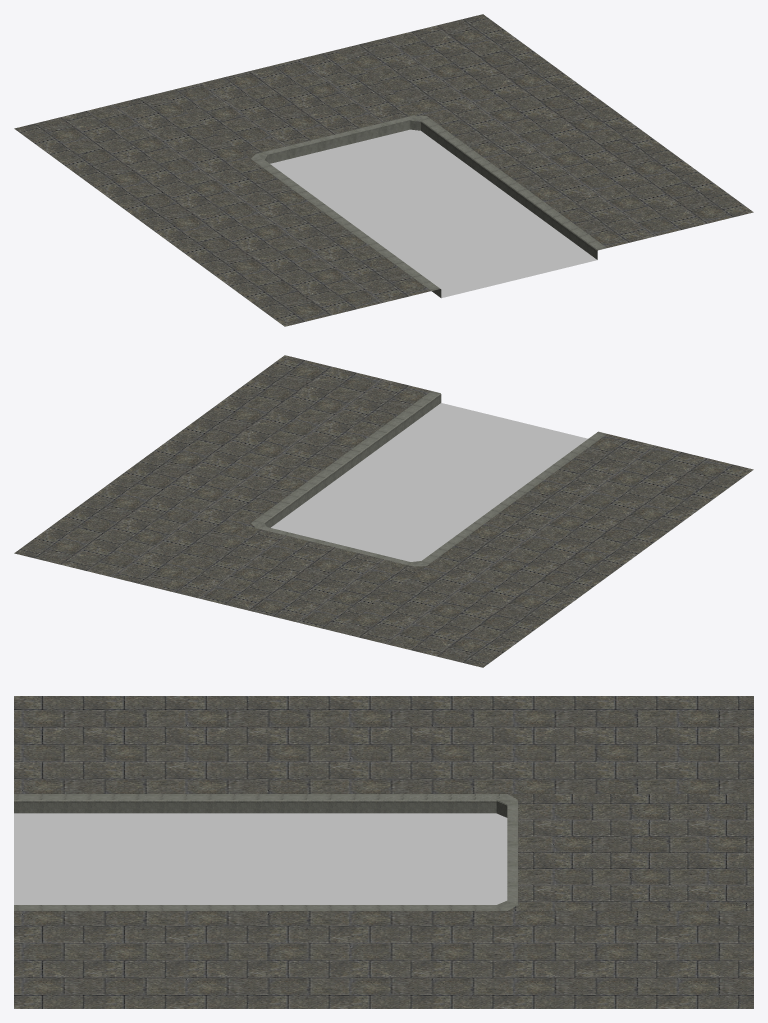
File: CT_Road_Lane_End_01.fbx
The picture shows the model from 3 angles, top to bottom: view 1: azimuth 30°, elevation 25°; view 2: azimuth 150°, elevation 25°; view 3: azimuth 270°, elevation 25°; orthographic projection. The views are drawn at different scales.
Visible parts, largest first — view 1: CT_Road_Lane_End_01; view 2: CT_Road_Lane_End_01; view 3: CT_Road_Lane_End_01.
Boxes of the visible parts, box(x1,y1,x2,y2) form: CT_Road_Lane_End_01: box(14, 14, 753, 326); CT_Road_Lane_End_01: box(14, 355, 753, 667); CT_Road_Lane_End_01: box(14, 696, 753, 1008).
Size of the model in its own units: 768 by 15 by 768.
